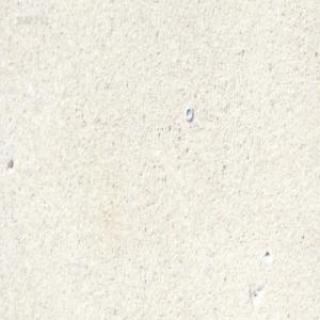Washertrack_idkeyframe: (184, 104, 192, 120)
